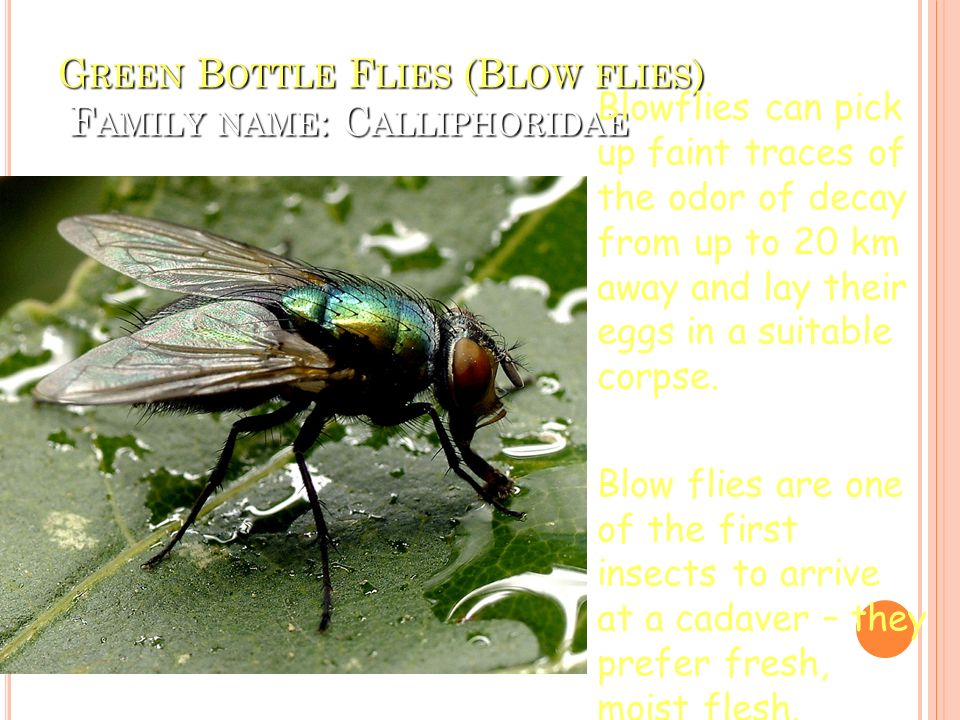green bottles fly: (36, 199, 541, 650)
